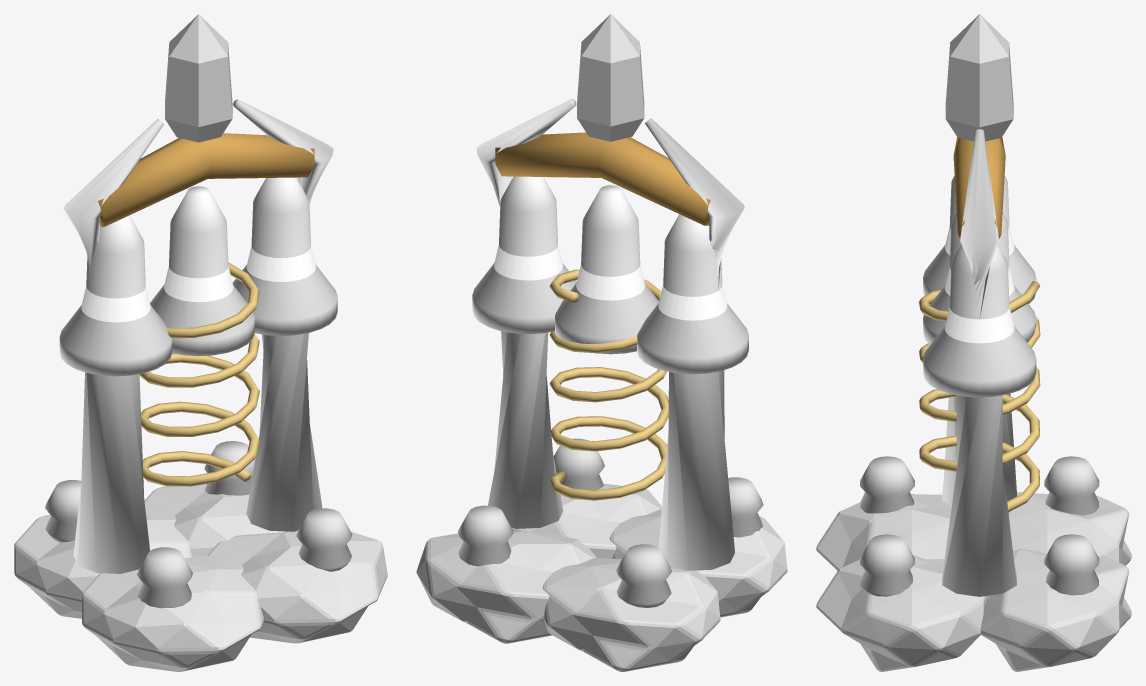
Rendered from storm-3.fbx.
3 views of the same model, side by side, from view 1: azimuth 30°, elevation 25°; view 2: azimuth 150°, elevation 25°; view 3: azimuth 270°, elevation 25° (orthographic).
Parts seen in each view (by area): view 1: Base_Stone, Turret_Bark, Turret_Metal, CastBell, CastBell.002, CastBell.001, Base_Organic, SkyCrystal; view 2: Base_Stone, Turret_Bark, Turret_Metal, CastBell, CastBell.002, CastBell.001, Base_Organic, SkyCrystal; view 3: Base_Stone, Turret_Bark, Base_Organic, CastBell.002, Turret_Metal, SkyCrystal, CastBell.001, CastBell.
Part boxes in pixels (left/top/right/bottom): Base_Stone: left=14, top=484, right=387, bottom=671; Turret_Bark: left=63, top=99, right=333, bottom=573; Turret_Metal: left=97, top=133, right=314, bottom=486; CastBell: left=59, top=215, right=172, bottom=376; CastBell.002: left=232, top=177, right=337, bottom=335; CastBell.001: left=150, top=186, right=254, bottom=356; Base_Organic: left=45, top=441, right=352, bottom=608; SkyCrystal: left=165, top=14, right=232, bottom=142; Base_Stone: left=416, top=483, right=787, bottom=671; Turret_Bark: left=476, top=98, right=744, bottom=570; Turret_Metal: left=495, top=132, right=710, bottom=500; CastBell: left=637, top=214, right=748, bottom=374; CastBell.002: left=472, top=176, right=576, bottom=334; CastBell.001: left=555, top=185, right=658, bottom=354; Base_Organic: left=458, top=438, right=763, bottom=607; SkyCrystal: left=577, top=14, right=644, bottom=141; Base_Stone: left=816, top=492, right=1131, bottom=671; Turret_Bark: left=942, top=129, right=1016, bottom=596; Base_Organic: left=860, top=456, right=1099, bottom=596; CastBell.002: left=923, top=244, right=1036, bottom=397; Turret_Metal: left=918, top=137, right=1040, bottom=512; SkyCrystal: left=945, top=14, right=1013, bottom=141; CastBell.001: left=923, top=212, right=1036, bottom=344; CastBell: left=923, top=176, right=1036, bottom=303.
Bounding box in the file's own units: 76.43 × 155 × 72.59.
